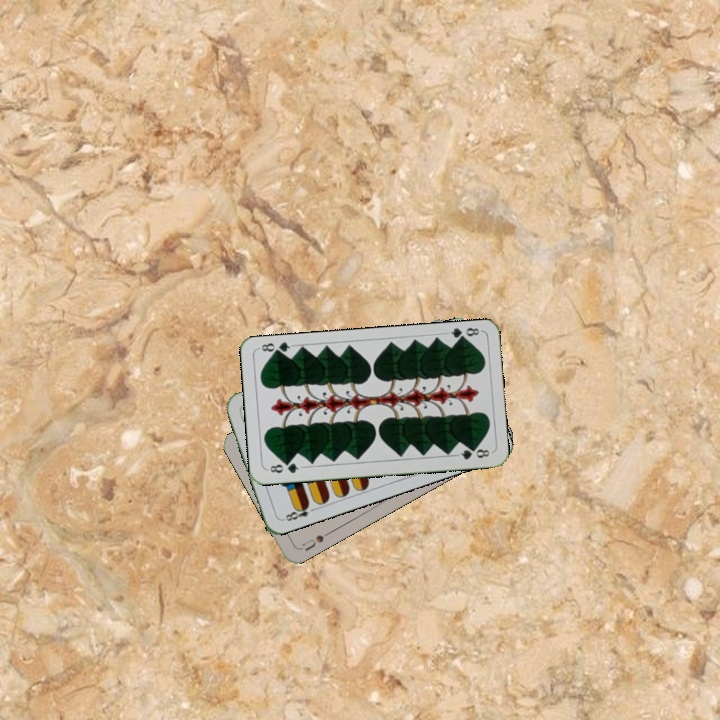E8: (279, 499, 318, 524)
G8: (443, 324, 483, 344), (264, 458, 304, 476)
SU: (296, 527, 334, 553)
